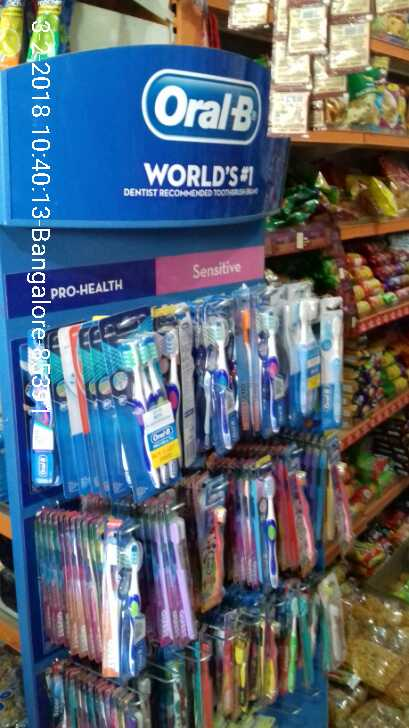oralb: (75, 322, 184, 480), (286, 295, 347, 431), (106, 529, 148, 684), (151, 504, 195, 649), (196, 307, 236, 446), (245, 298, 283, 440), (245, 471, 283, 587)
